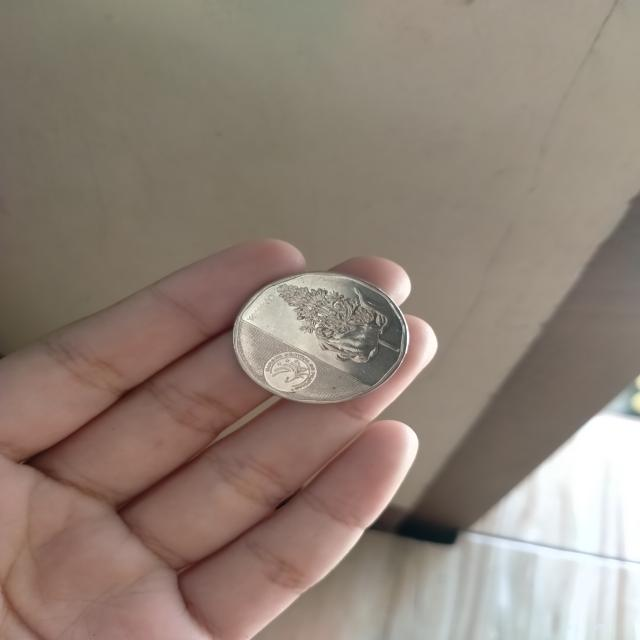10_New_Back: (272, 270, 407, 364)
